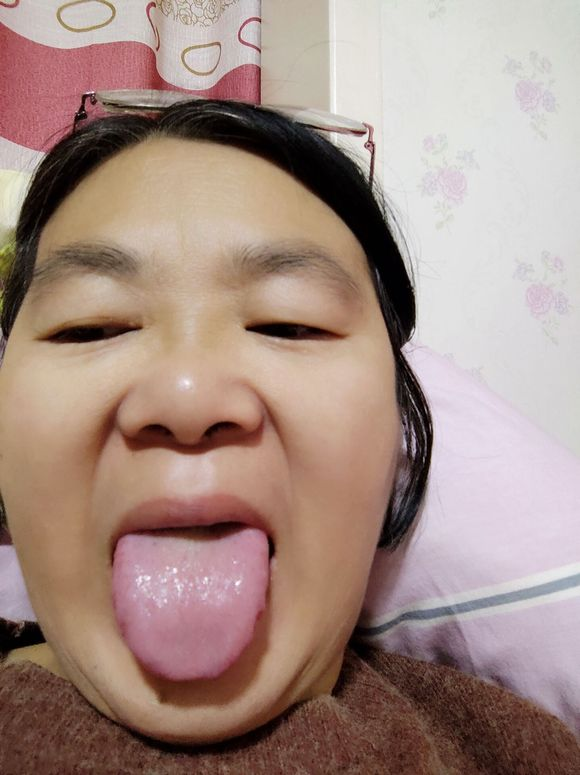baitaishe: (113, 526, 270, 681)
chihenshe: (253, 574, 270, 633)
